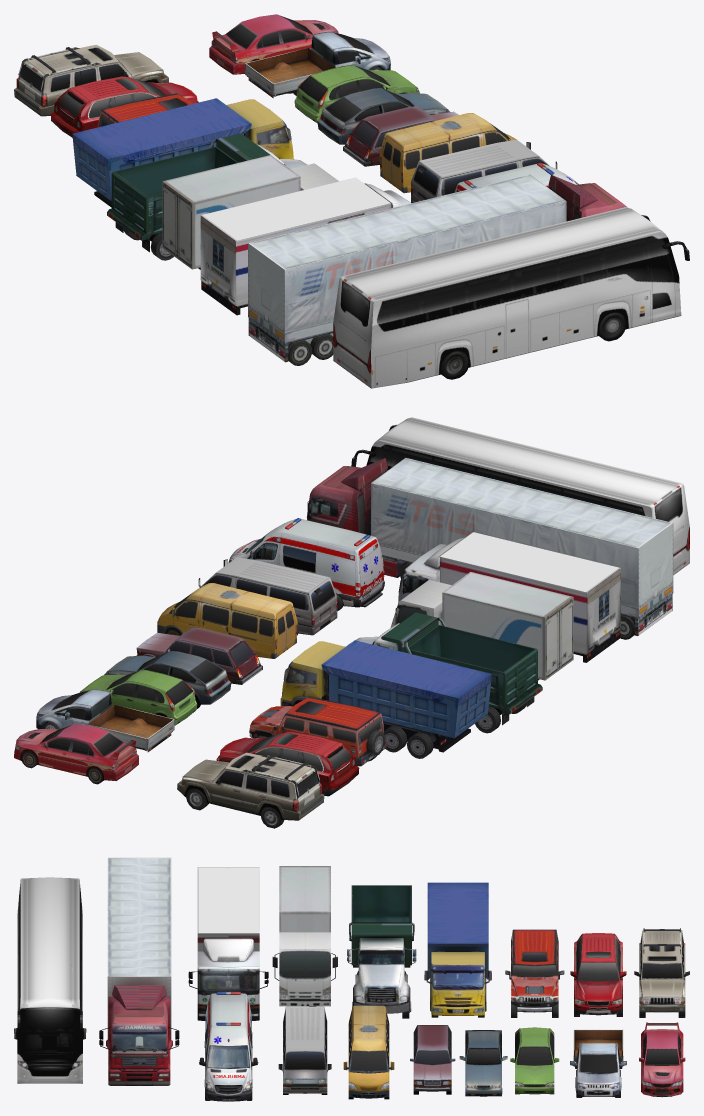
The model's file is traffic_racer_npc_vehicles_pack.glb.
3 renders of one model, top to bottom at view 1: azimuth 30°, elevation 25°; view 2: azimuth 150°, elevation 25°; view 3: azimuth 270°, elevation 25°, orthographic. The views are drawn at different scales.
Parts seen in each view (by area): view 1: scania_bus_8, tir_31, truck3_14, truck1_21, isuzu.001_25, truck2_18, jeep_commander_1, gazel_bus_6, pickup_new_24, lancer_evo_5, toyota_hiace_9, volvo_xc90_10 (+5 smaller); view 2: tir_31, scania_bus_8, truck3_14, truck1_21, isuzu.001_25, jeep_commander_1, ambulans_yeni_7, truck2_18, gazel_bus_6, lancer_evo_5, hummer_0, toyota_hiace_9 (+5 smaller); view 3: tir_31, scania_bus_8, truck1_21, truck3_14, isuzu.001_25, truck2_18, ambulans_yeni_7, hummer_0, volvo_xc90_10, jeep_commander_1, toyota_hiace_9, gazel_bus_6 (+5 smaller).
Part boxes in pixels (x1,y1,x2,y2): scania_bus_8: (333, 207, 689, 388); tir_31: (248, 174, 627, 362); truck3_14: (72, 98, 293, 207); truck1_21: (200, 177, 411, 315); isuzu.001_25: (162, 155, 338, 269); truck2_18: (107, 133, 307, 252); jeep_commander_1: (14, 44, 168, 116); gazel_bus_6: (379, 113, 516, 193); pickup_new_24: (245, 31, 390, 98); lancer_evo_5: (209, 14, 338, 74); toyota_hiace_9: (411, 139, 557, 202); volvo_xc90_10: (50, 76, 198, 137); tir_31: (306, 457, 673, 635); scania_bus_8: (351, 417, 689, 575); truck3_14: (280, 640, 491, 752); truck1_21: (398, 532, 620, 662); isuzu.001_25: (390, 572, 573, 680); jeep_commander_1: (177, 752, 324, 828); ambulans_yeni_7: (228, 518, 384, 611); truck2_18: (347, 612, 542, 725); gazel_bus_6: (157, 583, 297, 658); lancer_evo_5: (14, 723, 138, 784); hummer_0: (249, 696, 387, 766); toyota_hiace_9: (198, 557, 337, 635); tir_31: (99, 857, 179, 1085); scania_bus_8: (14, 877, 86, 1083); truck1_21: (188, 867, 268, 1020); truck3_14: (424, 882, 491, 1015); isuzu.001_25: (272, 866, 337, 1006); truck2_18: (347, 885, 416, 1013); ambulans_yeni_7: (199, 992, 258, 1101); hummer_0: (505, 929, 564, 1017); volvo_xc90_10: (570, 933, 626, 1016); jeep_commander_1: (634, 928, 689, 1017); toyota_hiace_9: (278, 1006, 331, 1094); gazel_bus_6: (343, 1005, 394, 1099).
Size of the model in its own units: 31.13 by 7.55 by 53.01.
18 materials, 18 textured.
